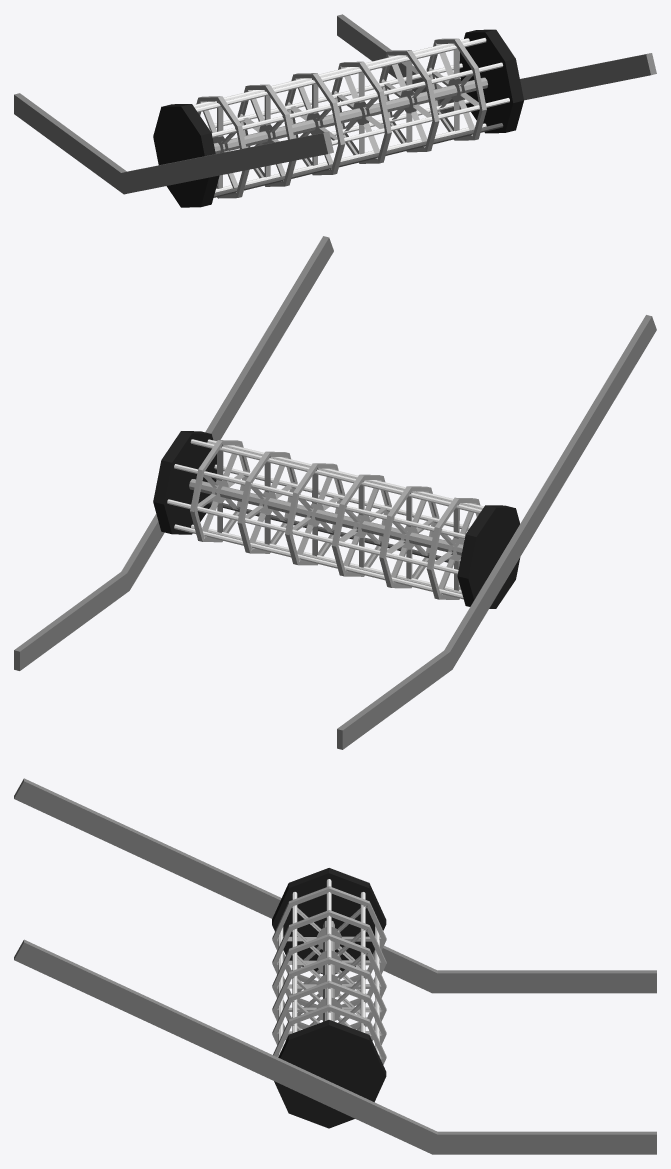
File: wheat_collector.glb
3 renders of one model, top to bottom at view 1: azimuth 30°, elevation 25°; view 2: azimuth 150°, elevation 25°; view 3: azimuth 270°, elevation 25°, orthographic. The views are drawn at different scales.
Parts seen in each view (by area): view 1: wheat_collector, wheat_collector_handle; view 2: wheat_collector, wheat_collector_handle; view 3: wheat_collector_handle, wheat_collector.
Part boxes in pixels (bbox=[...]): wheat_collector: bbox=[153, 29, 523, 207]; wheat_collector_handle: bbox=[14, 14, 656, 194]; wheat_collector: bbox=[153, 431, 520, 608]; wheat_collector_handle: bbox=[14, 236, 656, 749]; wheat_collector_handle: bbox=[14, 778, 656, 1154]; wheat_collector: bbox=[272, 868, 386, 1128].
Bounding box in the file's own units: 2.22 × 1.34 × 3.67.
1 material, 1 textured.
